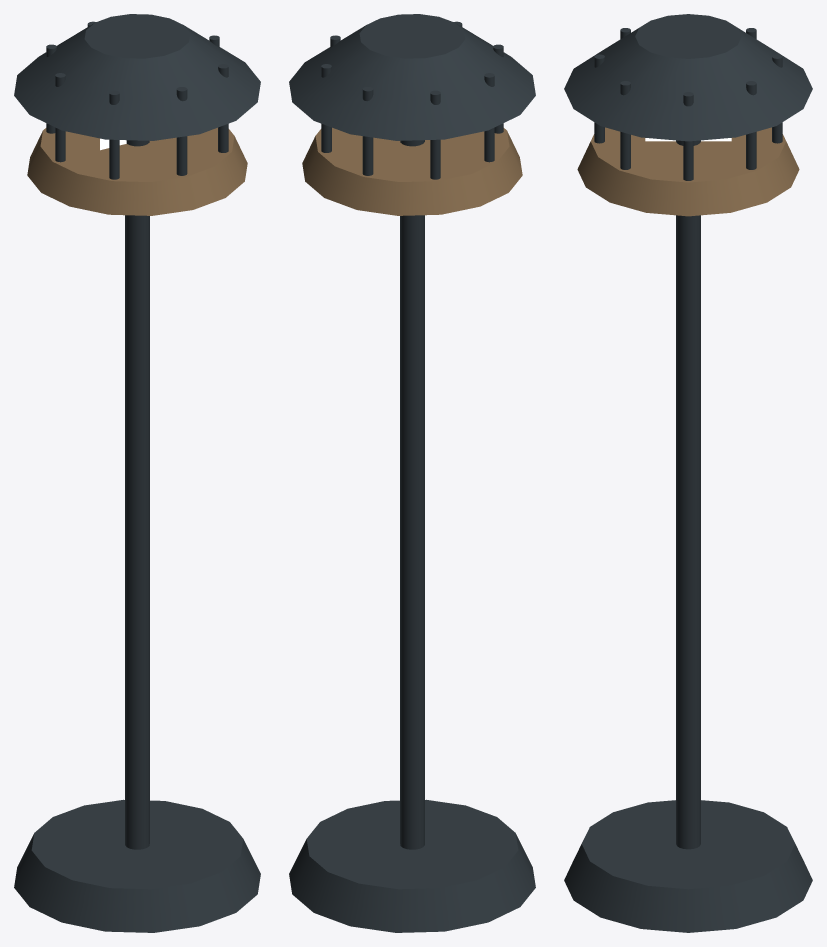
File: room_lamp.glb
The picture shows the model from 3 angles, left to right: view 1: azimuth 30°, elevation 25°; view 2: azimuth 150°, elevation 25°; view 3: azimuth 270°, elevation 25°; orthographic projection.
Visible parts, largest first — view 1: _MeshInstance3D_18; view 2: _MeshInstance3D_18; view 3: _MeshInstance3D_18.
Part boxes in pixels (box(x1,y1,x2,y2)): _MeshInstance3D_18: box(14, 14, 260, 932); _MeshInstance3D_18: box(289, 14, 535, 932); _MeshInstance3D_18: box(564, 14, 812, 932).
Size of the model in its own units: 0.56 by 2.1 by 0.56.
